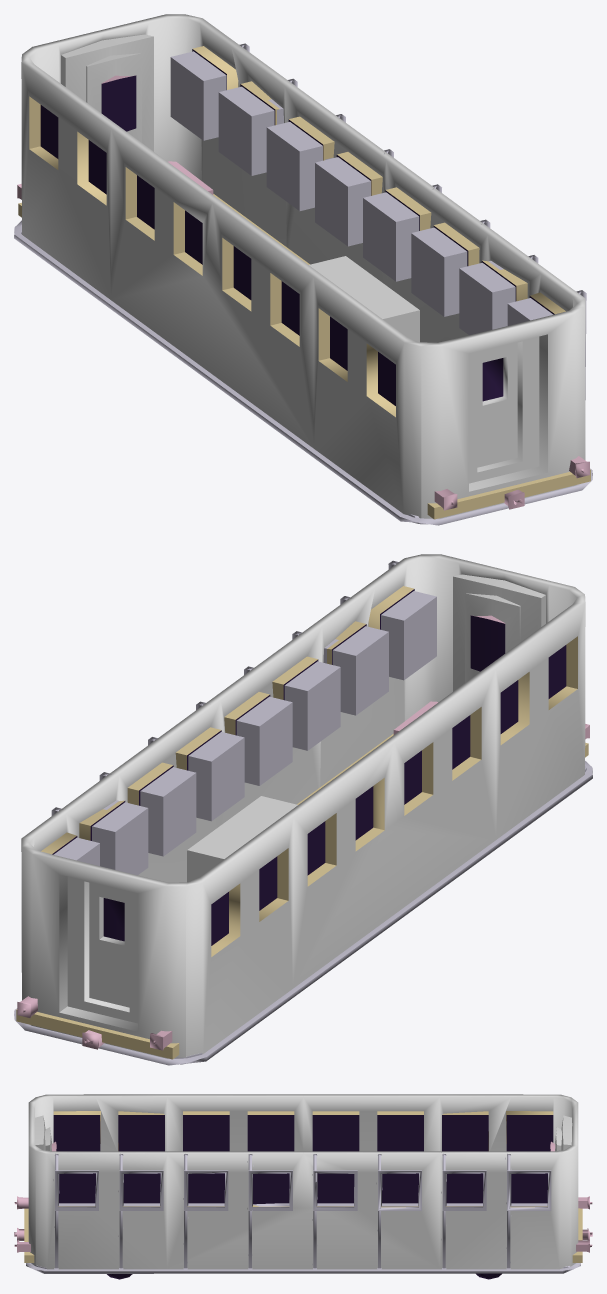
The model's file is kiddie-wagon.glb.
The picture shows the model from 3 angles, top to bottom: view 1: azimuth 30°, elevation 25°; view 2: azimuth 150°, elevation 25°; view 3: azimuth 270°, elevation 25°; orthographic projection. The views are drawn at different scales.
Parts seen in each view (by area): view 1: BackWheels; view 2: BackWheels; view 3: BackWheels.
Part boxes in pixels (bbox=[...]): BackWheels: bbox=[14, 14, 592, 525]; BackWheels: bbox=[14, 554, 592, 1065]; BackWheels: bbox=[14, 1094, 592, 1279].
Size of the model in its own units: 2.1 by 2.22 by 8.15.
